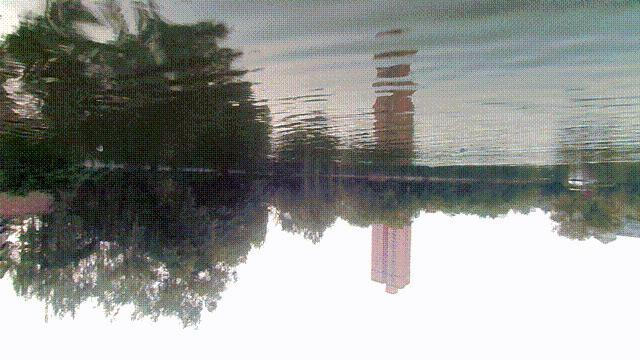Plastic: (94, 144, 104, 154)
